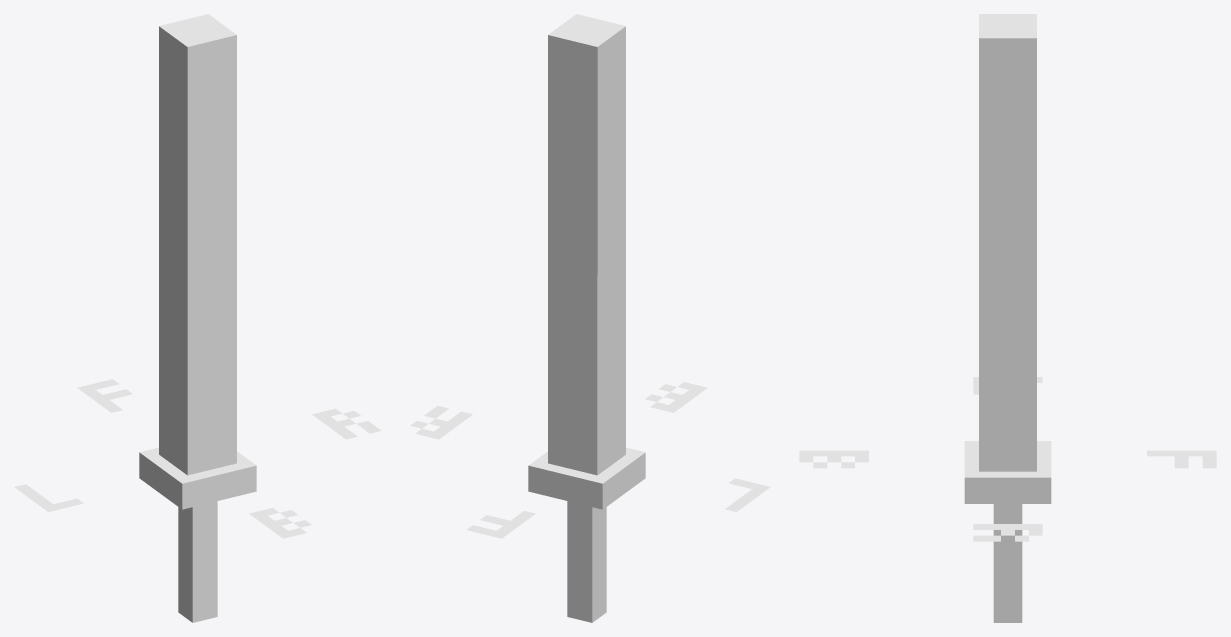
Rendered from laser_blade_1.obj.
3 renders of one model, left to right at view 1: azimuth 30°, elevation 25°; view 2: azimuth 150°, elevation 25°; view 3: azimuth 270°, elevation 25°, orthographic.
Parts seen in each view (by area): view 1: Blade_halo_1, Hilt, Invisible; view 2: Blade_halo_1, Hilt, Invisible; view 3: Blade_halo_1, Hilt, Invisible.
Boxes of the visible parts, left/top/right/bottom form: Blade_halo_1: left=159, top=14, right=236, bottom=475; Hilt: left=139, top=447, right=256, bottom=622; Invisible: left=14, top=379, right=381, bottom=538; Blade_halo_1: left=548, top=14, right=625, bottom=475; Hilt: left=528, top=447, right=645, bottom=622; Invisible: left=410, top=382, right=770, bottom=538; Blade_halo_1: left=979, top=14, right=1036, bottom=471; Hilt: left=964, top=441, right=1051, bottom=622; Invisible: left=799, top=377, right=1216, bottom=541.
Size of the model in its own units: 0.84 by 1.41 by 0.9.
